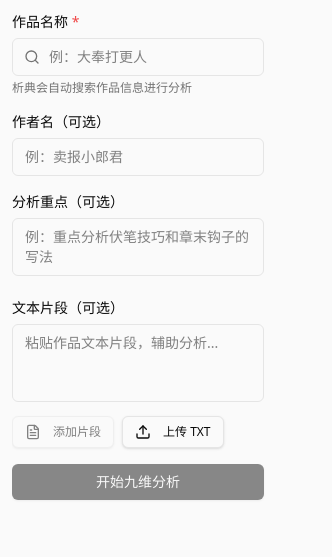
Test case: AnalysisSubmitForm › adds and removes text snippets
Note: Type a snippet
Type "这是一段测试文本" into the text box with placeholder "粘贴作品文本片段，辅助分析..." at point(138, 363), box [12, 324, 264, 402]
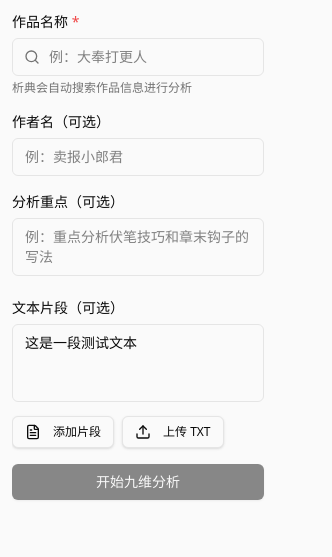
Note: Click add snippet
Click the button "添加片段" at point(63, 432), box [12, 416, 114, 448]
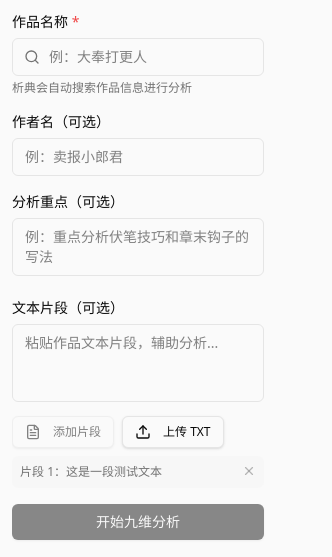
Expected: the text "片段 1：这是一段测试文本" is shown, [20, 463, 162, 480]
Expected: the text box with placeholder "粘贴作品文本片段，辅助分析..." is empty, [12, 324, 264, 402]
